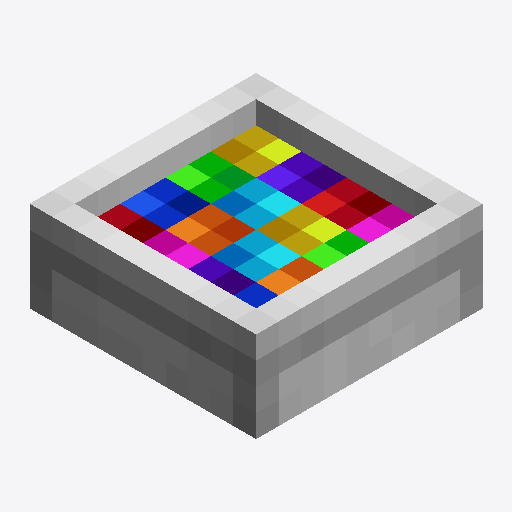
A Minecraft block model of 6 cuboids, rendered isometrically (azimuth 45°, elevation 35.3°) with the resource pack's own textures.
Visible parts, largest first — element 1, element 6, element 4, element 2, element 3.
Part boxes in pixels (left/top/right/bottom): element 1: left=30, top=191, right=278, bottom=438; element 6: left=98, top=126, right=413, bottom=307; element 4: left=256, top=204, right=459, bottom=425; element 2: left=234, top=73, right=482, bottom=320; element 3: left=53, top=86, right=255, bottom=216.
Bounding box in the file's own units: 10 × 4 × 10.01.